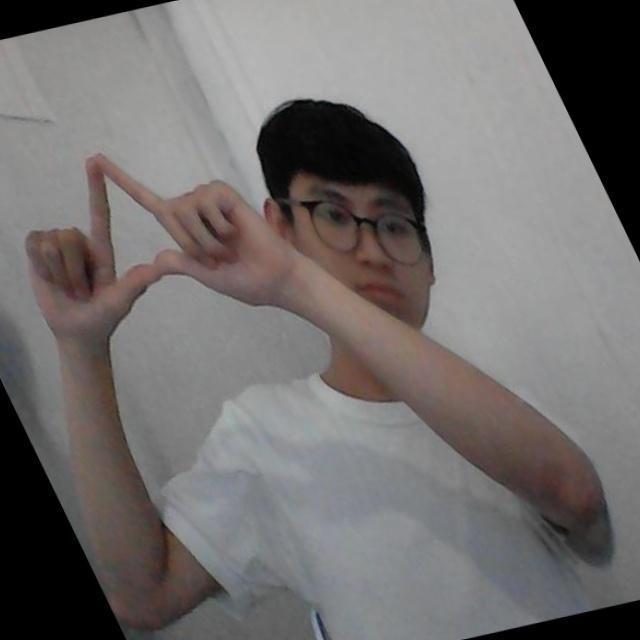A: (27, 152, 266, 321)
